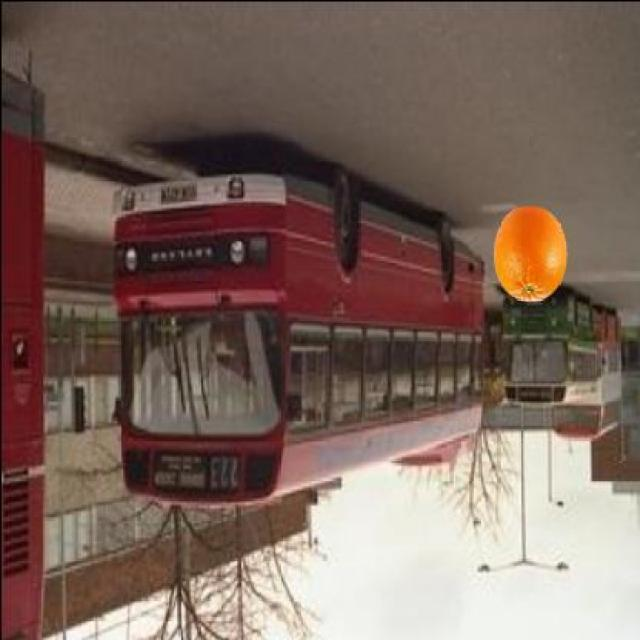Orange: (490, 203, 568, 303)
